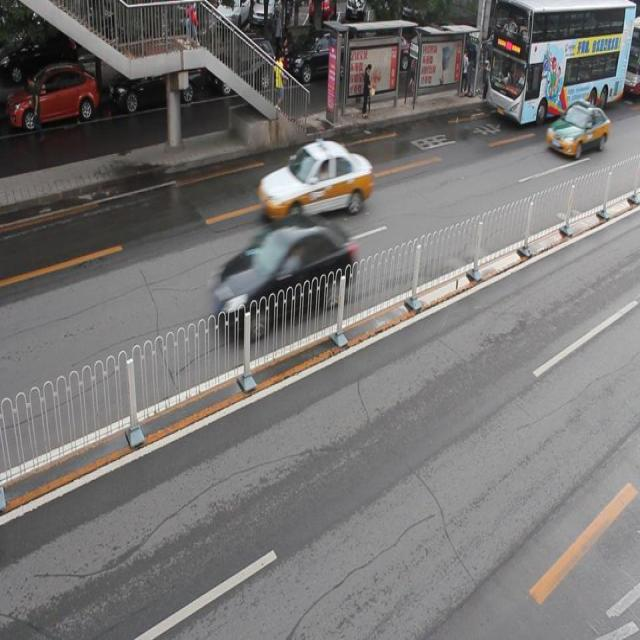car: (209, 212, 353, 336), (258, 141, 372, 222), (106, 46, 199, 114), (9, 67, 98, 132), (207, 36, 275, 99), (282, 29, 351, 88), (544, 101, 608, 161)
van: (485, 1, 632, 127)
